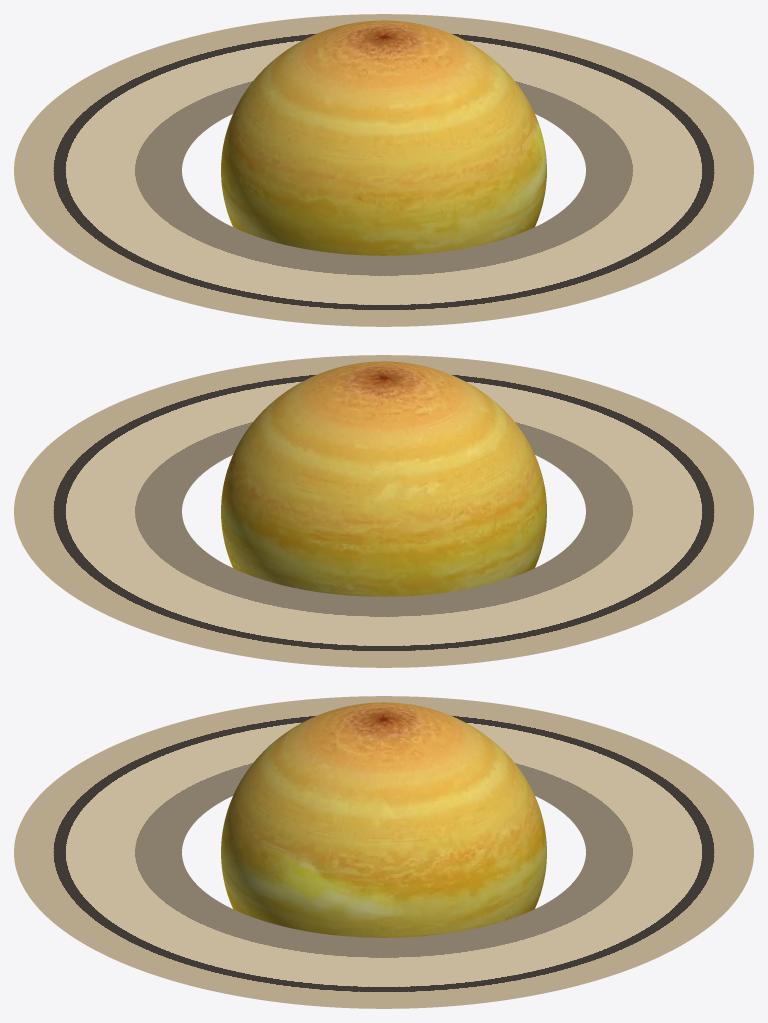
File: saturn.glb
The picture shows the model from 3 angles, top to bottom: view 1: azimuth 30°, elevation 25°; view 2: azimuth 150°, elevation 25°; view 3: azimuth 270°, elevation 25°; orthographic projection.
Visible parts, largest first — view 1: saturn_rings, saturn; view 2: saturn_rings, saturn; view 3: saturn_rings, saturn.
Part boxes in pixels (x1,y1,x2,y2): saturn_rings: (14, 14, 753, 326); saturn: (221, 20, 546, 255); saturn_rings: (14, 355, 753, 667); saturn: (221, 361, 546, 596); saturn_rings: (14, 696, 753, 1008); saturn: (221, 702, 546, 937).
Bounding box in the file's own units: 2.74e+08 × 1.09e+08 × 2.74e+08.
2 materials, 2 textured.
